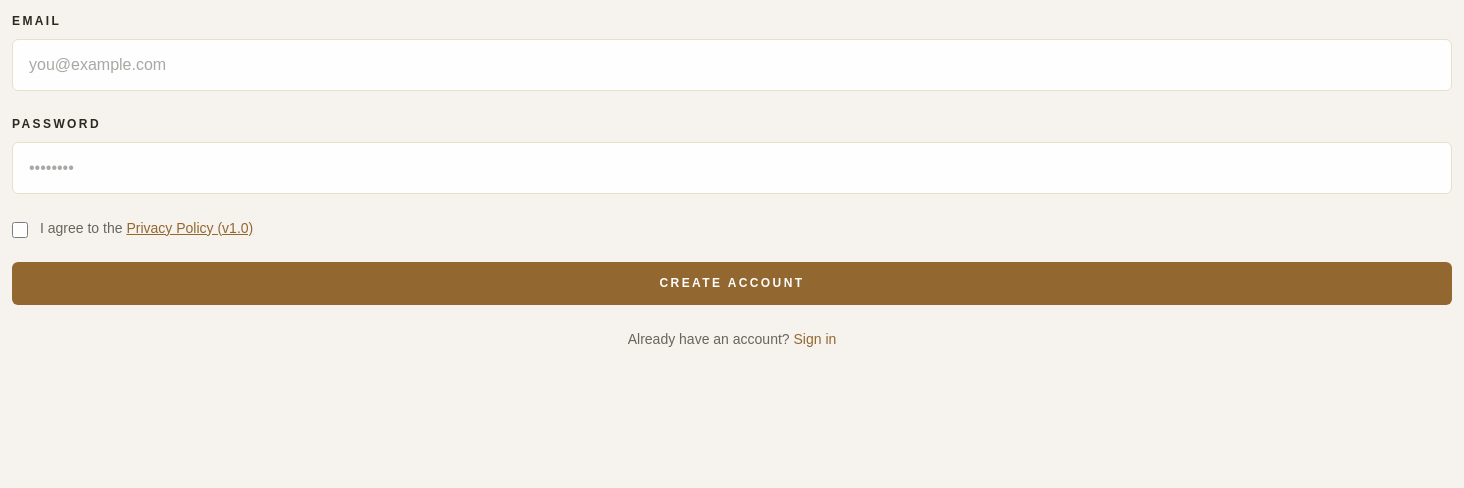
Scenario: SignupForm › transitions to verify step on signup success
The width and height of the screenshot is (1464, 488).
Type "test@example.com" into the field labelled "Email".
click(732, 65); type("test@example.com")  # box [12,39,1452,91]
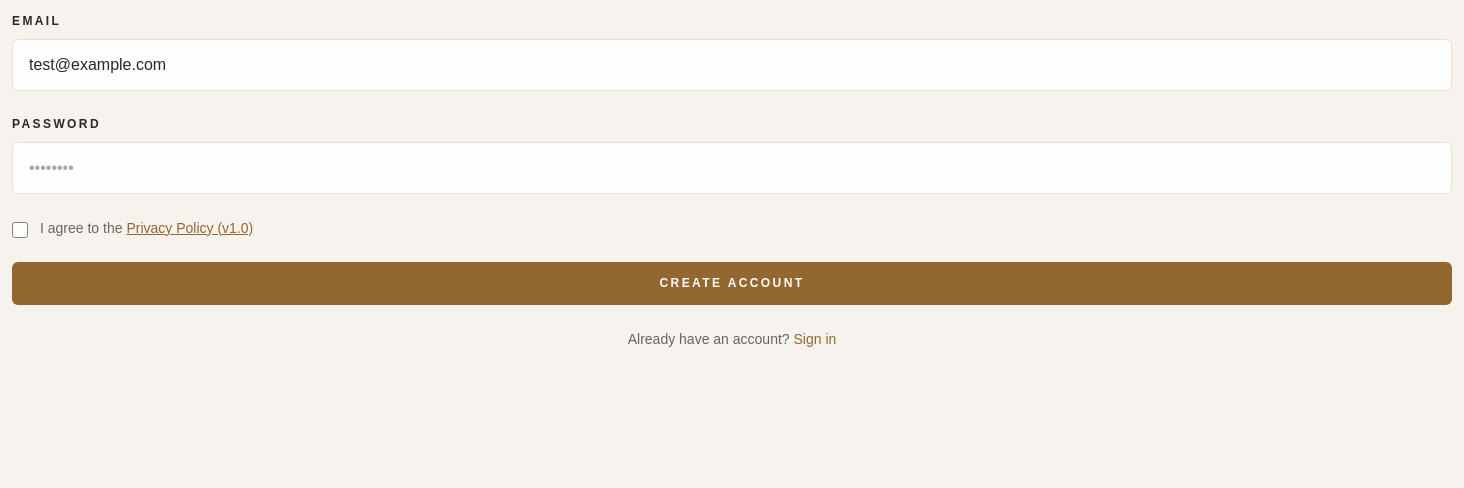
Type "Password1!" into the password field labelled "Password".
click(732, 168); type("Password1!")  # box [12,142,1452,194]
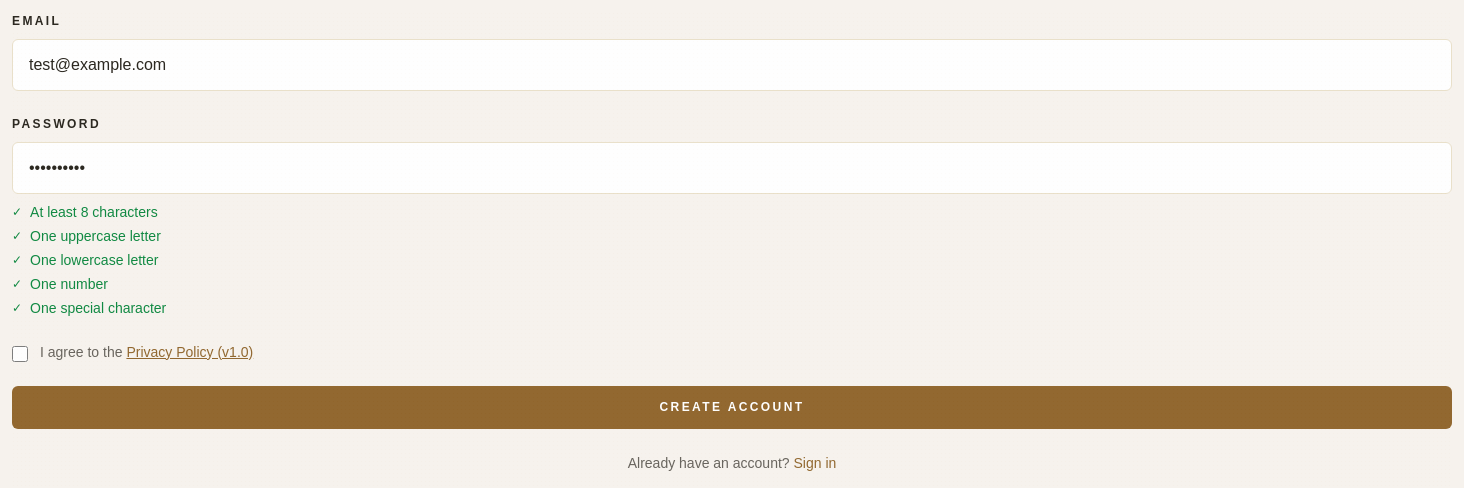
Click the checkbox.
click(20, 354)  # box [12,346,28,362]
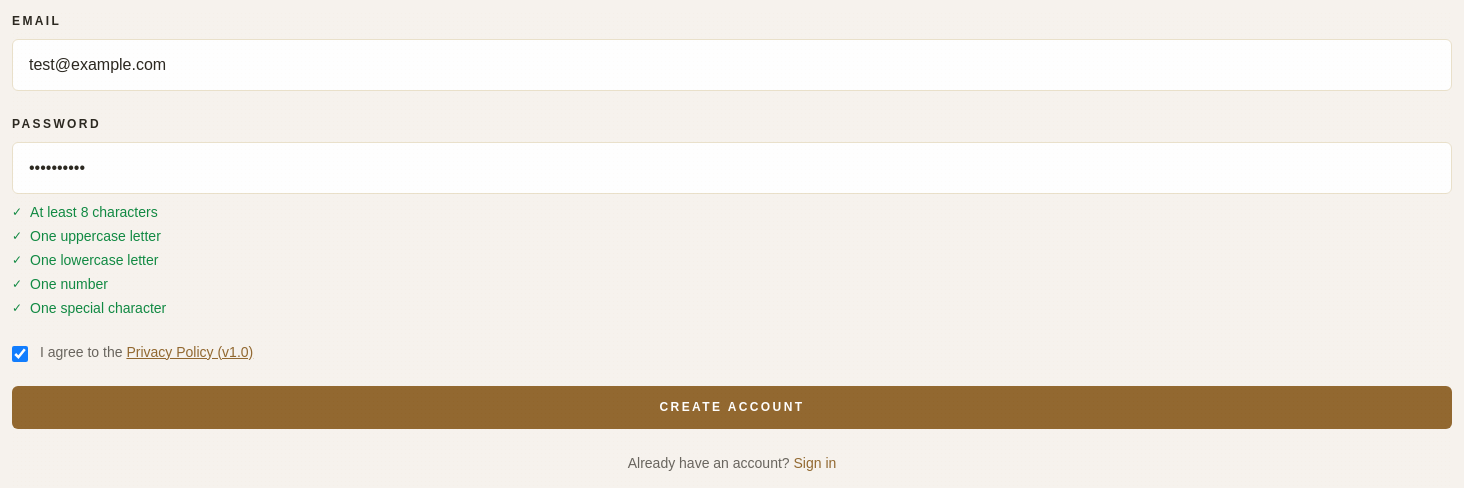
Click the button "Create Account".
click(732, 407)  # box [12,386,1452,429]
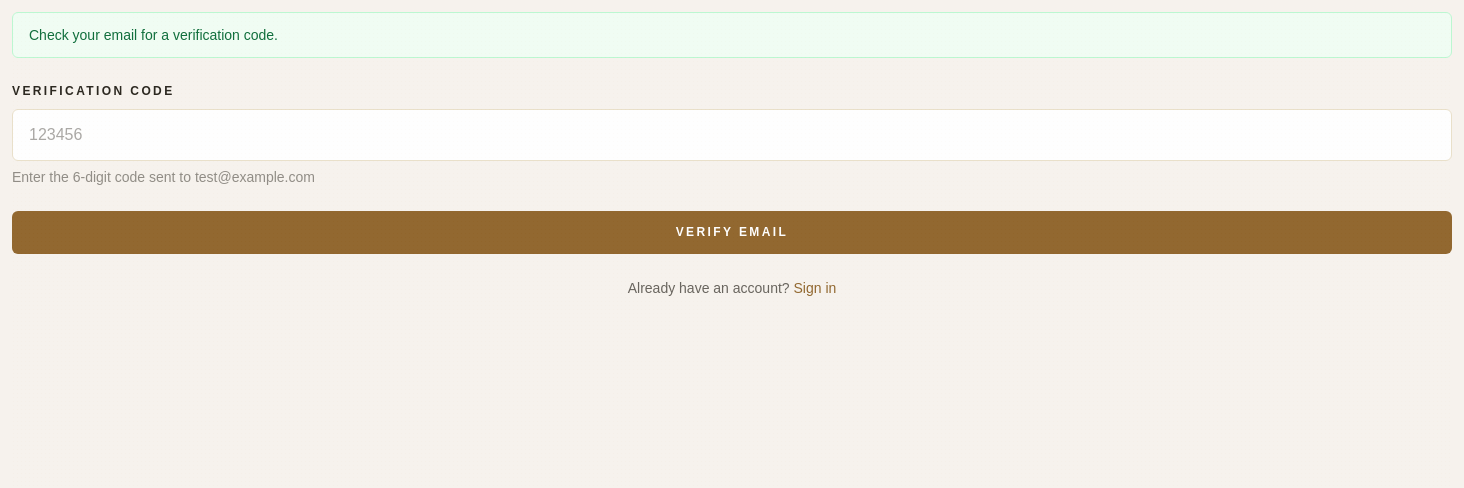
Expected: the text "Check your email for a verification code." is shown, [12,12,1452,58]
Expected: the field labelled "Verification Code" is shown, [12,109,1452,161]
